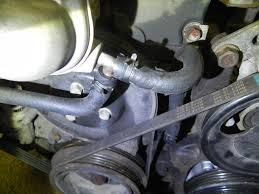radiator_hose: (116, 45, 203, 95)
